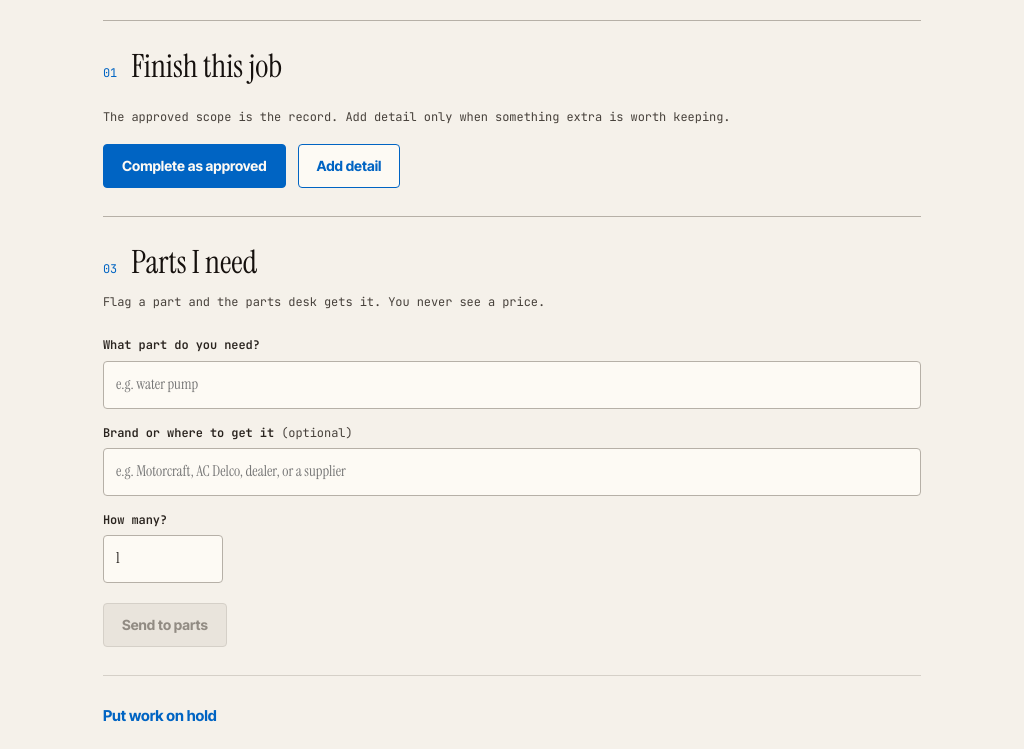
Test: simple work workspace › makes hold available as soon as a parts request is saved
(page scrolled)
Type "Front brake pad set" into the field labelled "What part do you need?" at x=512, y=384, box 103,360 -> 921,408
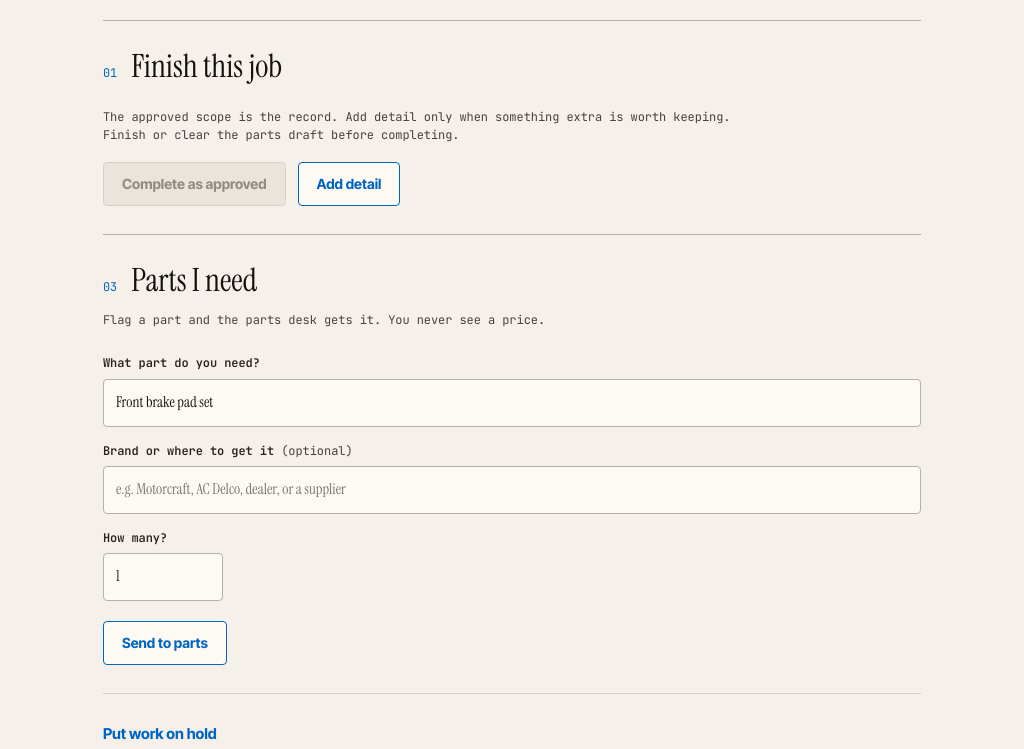
Type "OE-equivalent" into the field labelled "Brand or where to get it (optional)" at x=512, y=490, box 103,466 -> 921,514
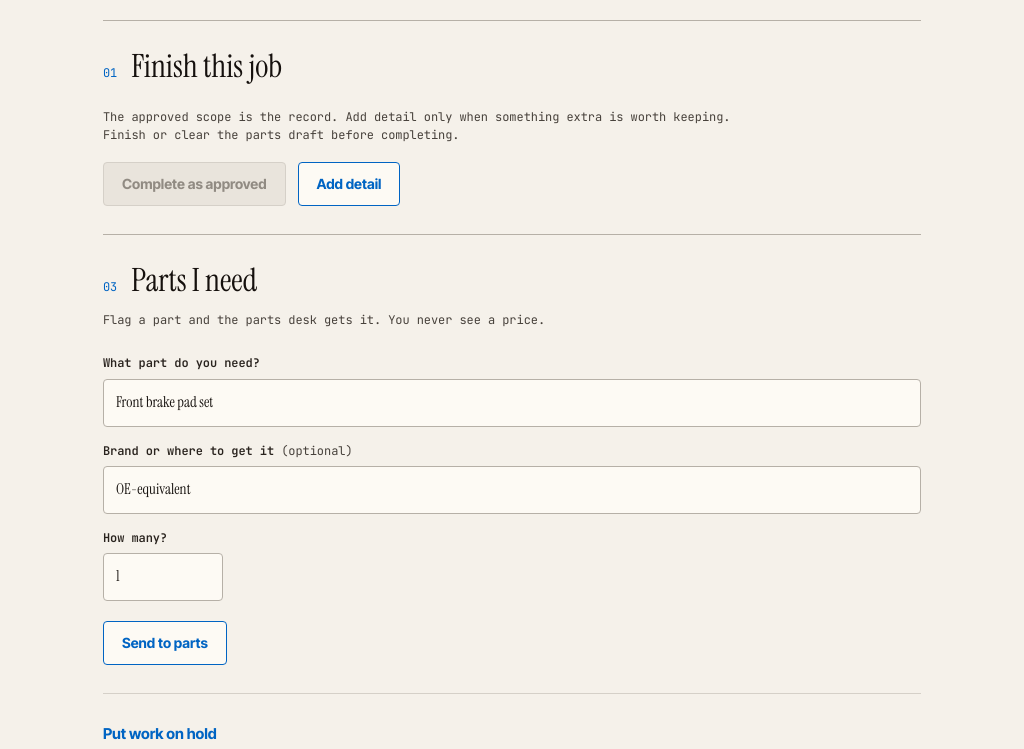
Click the button "Send to parts" at x=165, y=643, box 103,621 -> 227,665
(page scrolled)
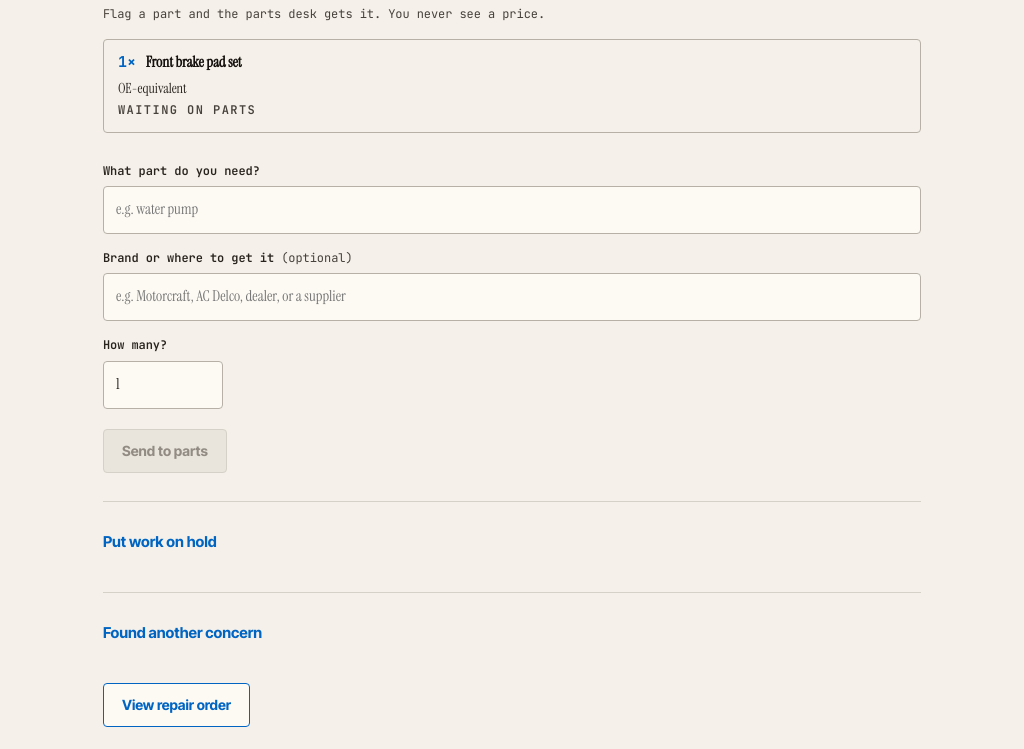
Check: the text "Front brake pad set" is shown, box 146,52 -> 242,74
Click the heading "Put work on hold" at x=160, y=541, box 103,532 -> 217,551
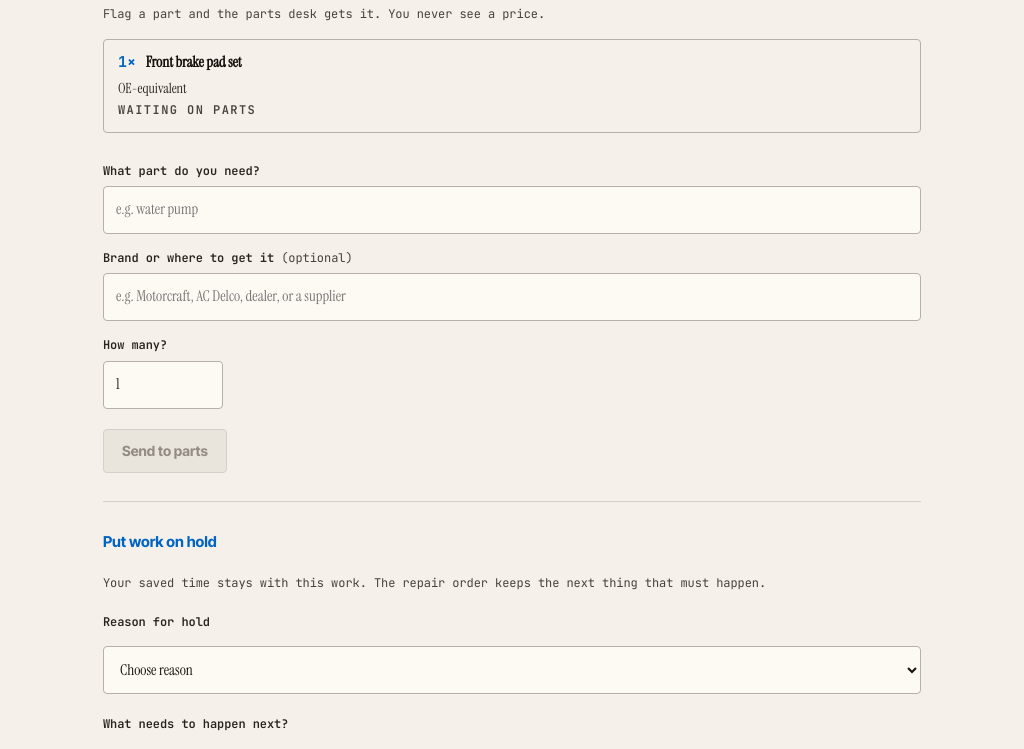
Select "Waiting on parts" in the dropdown labelled "Reason for hold" at x=512, y=670, box 103,646 -> 921,694
(page scrolled)
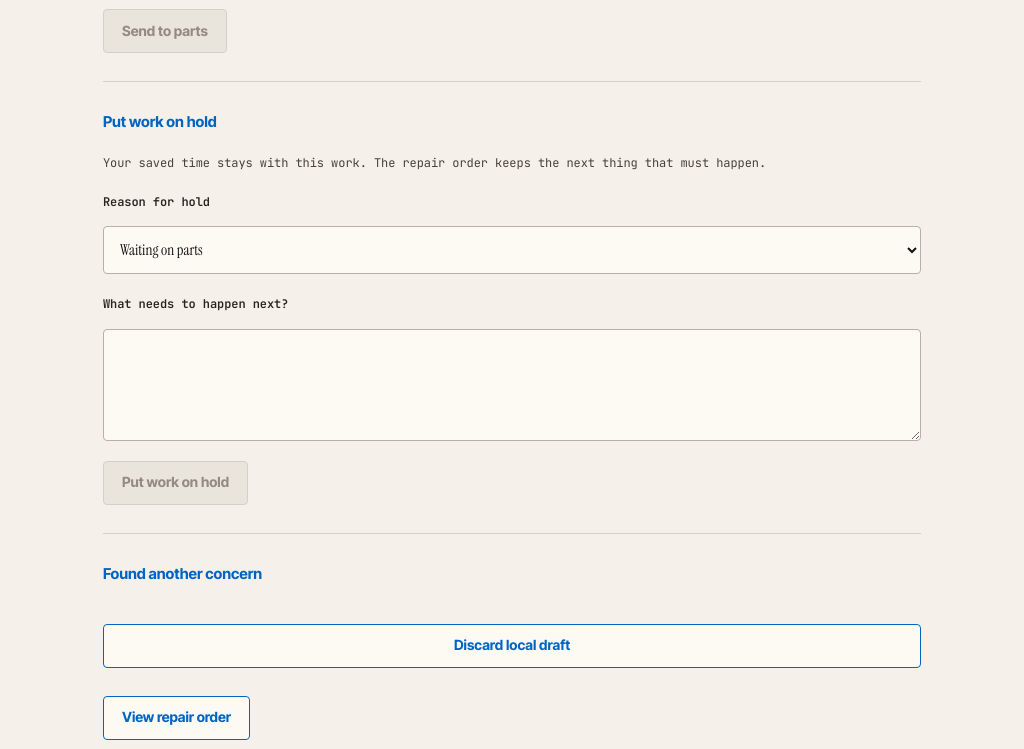
Type "Wait for the parts desk." into the text box labelled "What needs to happen next?" at x=512, y=384, box 103,328 -> 921,440
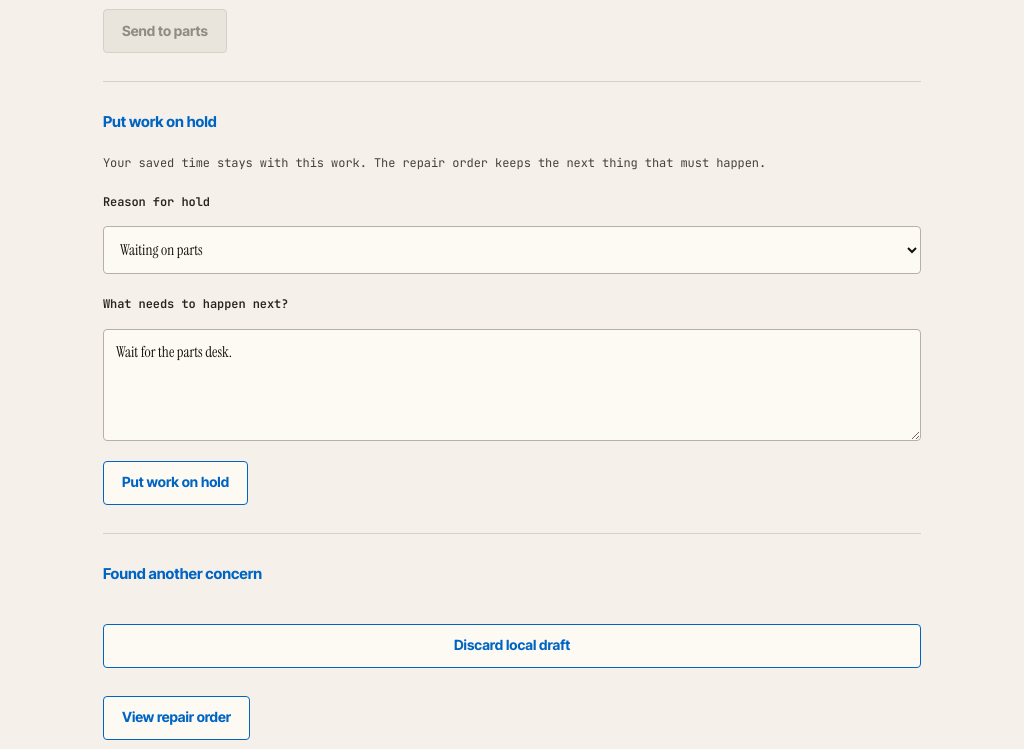
Check: the button "Put work on hold" is enabled, box 103,460 -> 248,504
